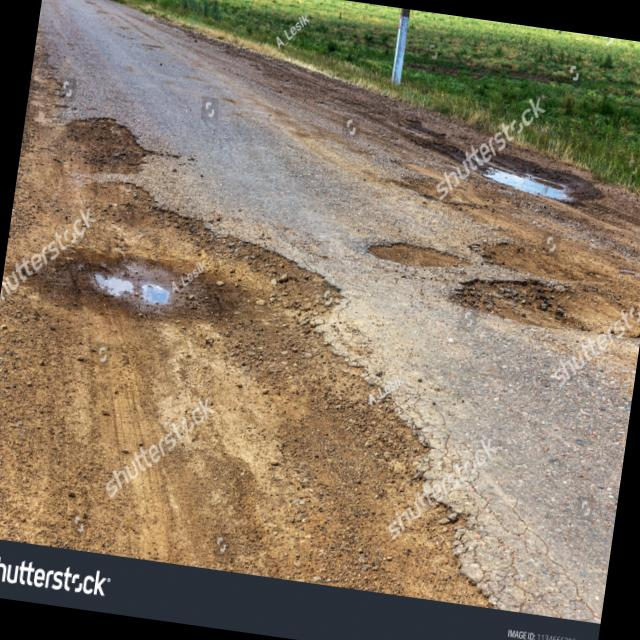Potholes: (3, 192, 261, 339), (444, 250, 640, 356), (426, 130, 619, 230), (343, 212, 472, 280), (62, 102, 156, 178)
